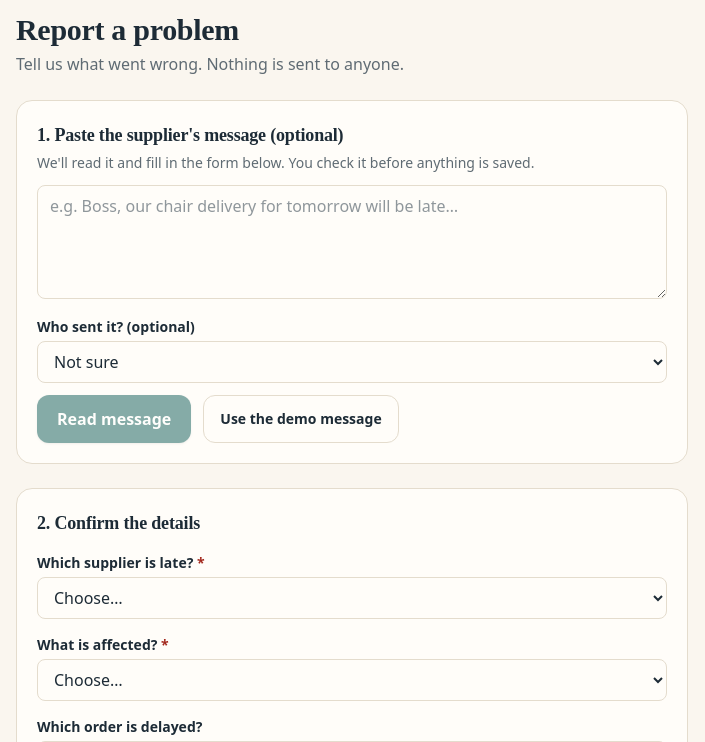
"Who sent it?" › "Use the demo message" selects Maju, and typing a different message clears the sender
The image size is (705, 742).
Click the button "Use the demo message". click: {"x": 301, "y": 419}
box: [203,395,399,443]
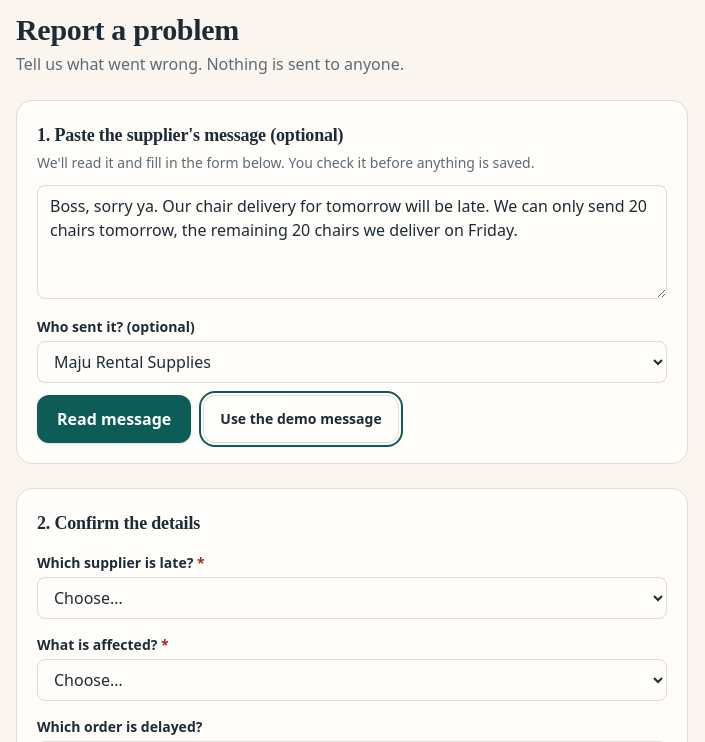
Result: the dropdown labelled "Who sent it? (optional)" shows "Maju Rental Supplies" at [37,341,667,383]
Click the text box named "Supplier message". click: {"x": 352, "y": 242}
box: [37,185,667,299]
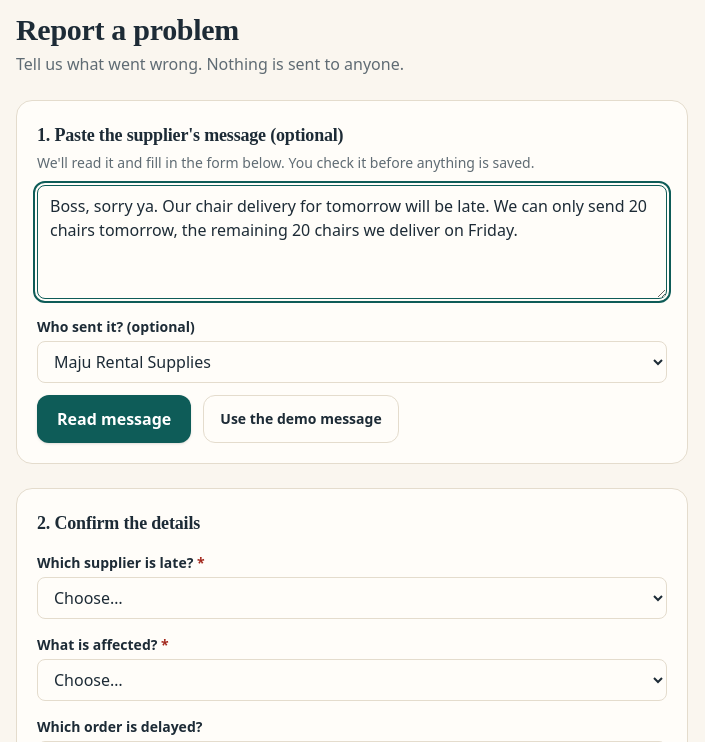
Type keys " extra"
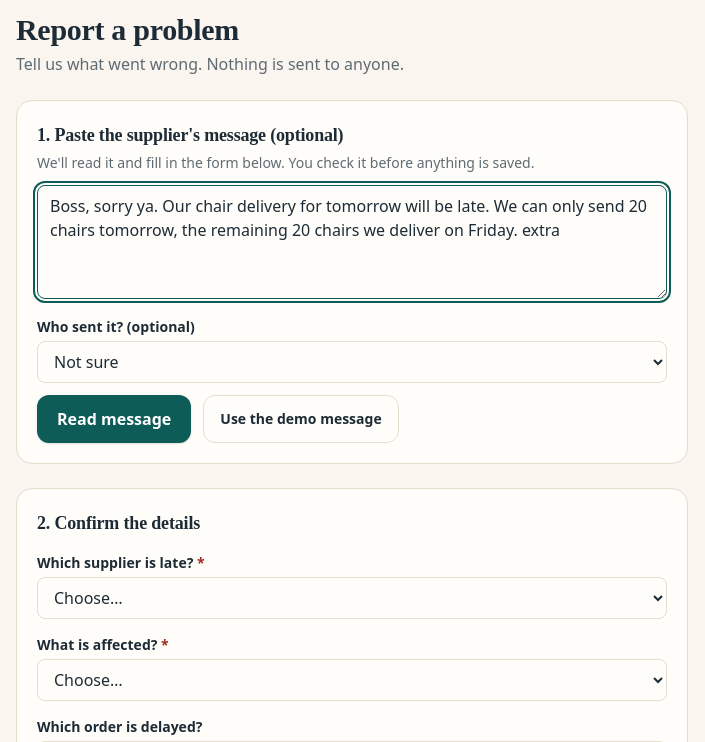
Result: the dropdown labelled "Who sent it? (optional)" shows "Not sure" at [37,341,667,383]
